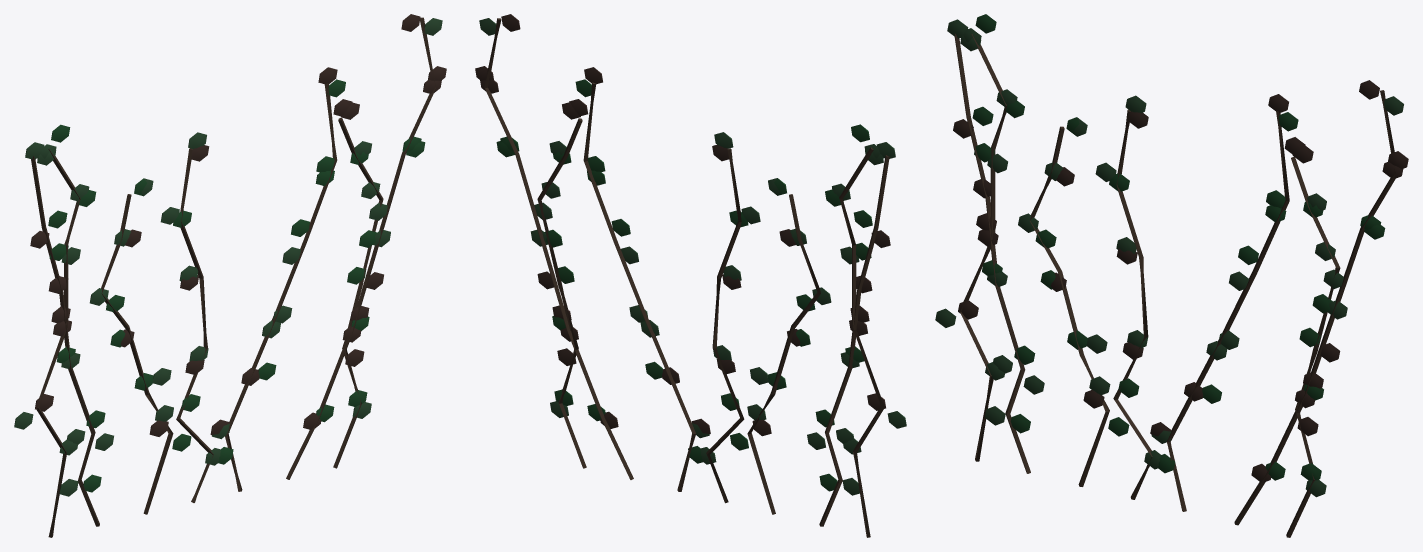
Rendered from wall_creeper.glb.
The picture shows the model from 3 angles, left to right: view 1: azimuth 30°, elevation 25°; view 2: azimuth 150°, elevation 25°; view 3: azimuth 330°, elevation 25°; orthographic projection. The views are drawn at different scales.
Parts seen in each view (by area): view 1: wall_creeper; view 2: wall_creeper; view 3: wall_creeper.
Part boxes in pixels (left/top/right/bottom): wall_creeper: left=14, top=14, right=446, bottom=537; wall_creeper: left=475, top=14, right=906, bottom=537; wall_creeper: left=935, top=14, right=1408, bottom=537.
Bounding box in the file's own units: 6.03 × 5.82 × 0.07.
